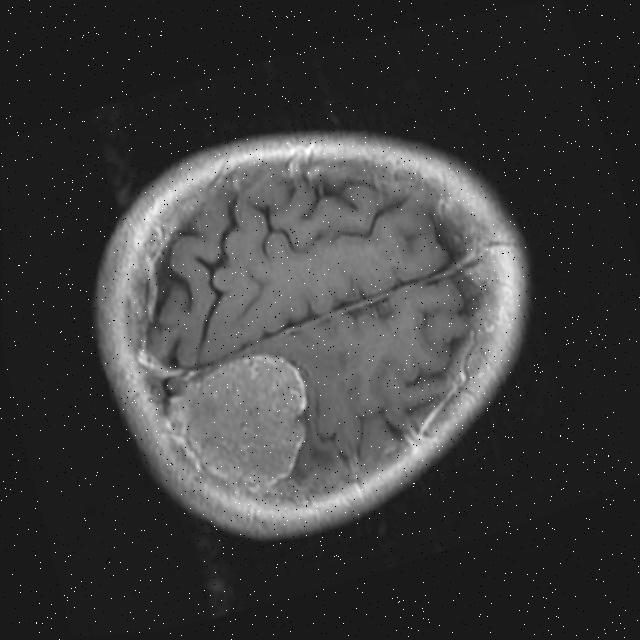Meningioma: (161, 340, 326, 512)
